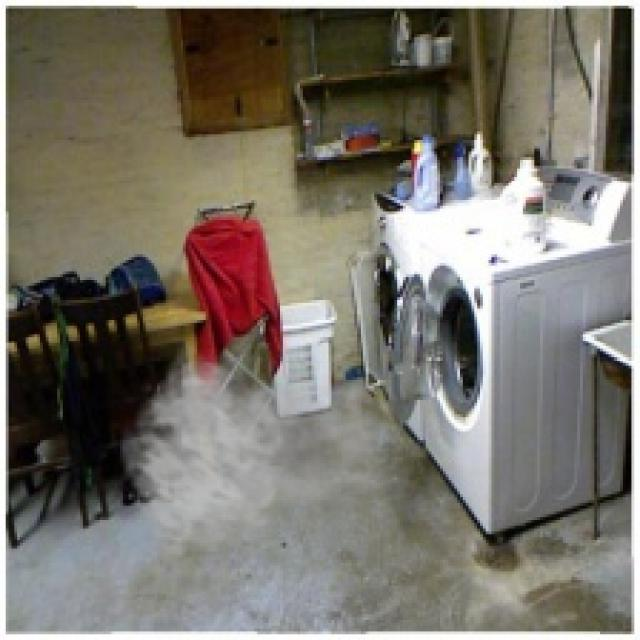smoke: (117, 337, 397, 560)
